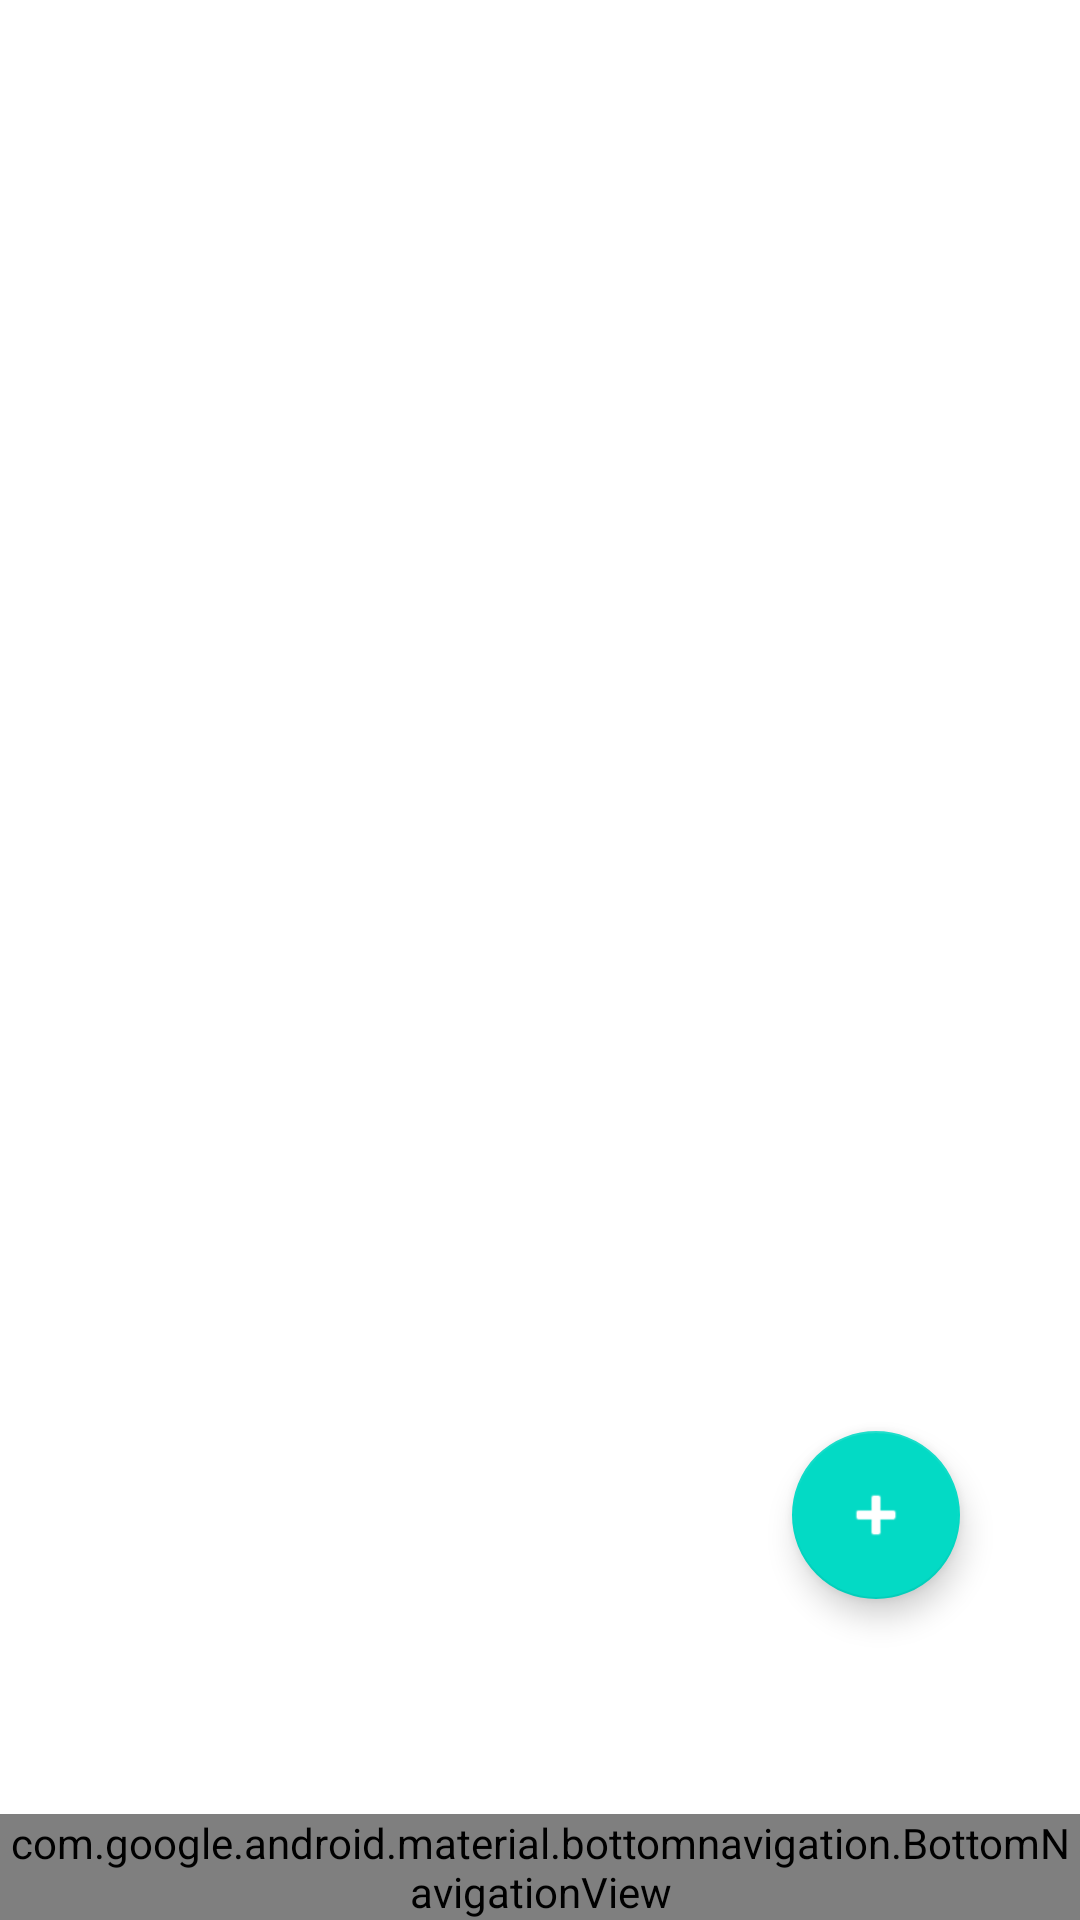

Icon bounding boxes for this 1080x1920 phone screenshot, format (x1, y1, x2, y2):
add: (792, 1431, 960, 1599)
